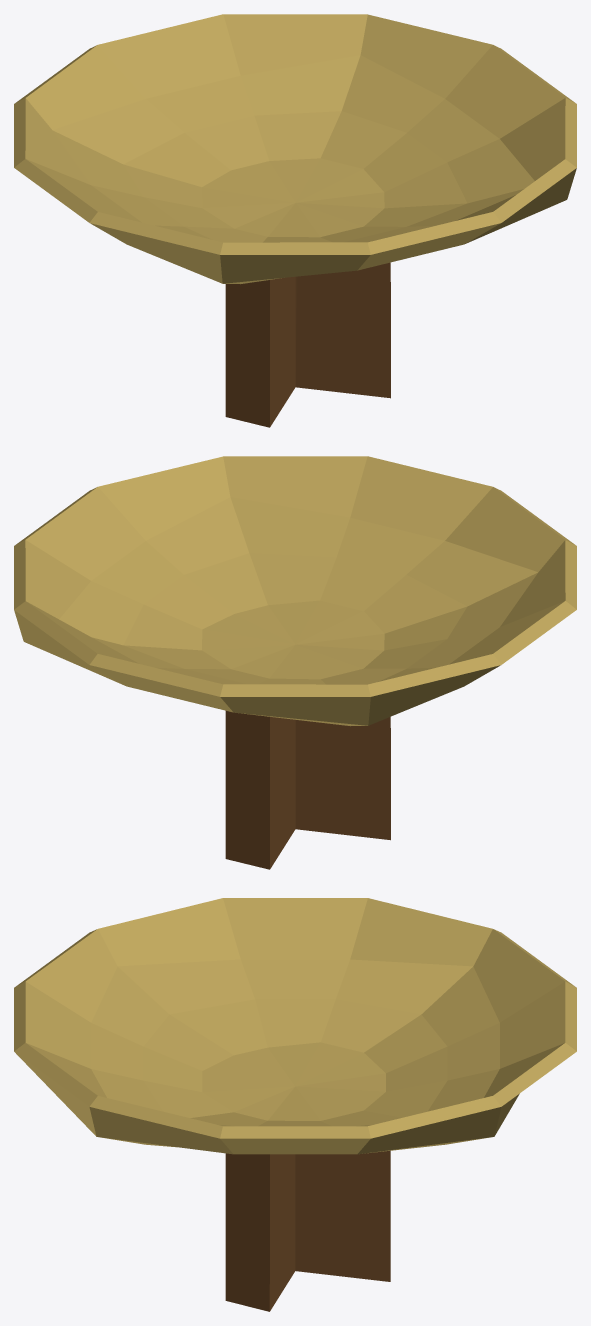
File: WaterTank_T2.fbx
3 views of the same model, one above another, from view 1: azimuth 30°, elevation 25°; view 2: azimuth 150°, elevation 25°; view 3: azimuth 270°, elevation 25° (orthographic).
Parts seen in each view (by area): view 1: Water_Tank_T2; view 2: Water_Tank_T2; view 3: Water_Tank_T2.
Boxes of the visible parts, bbox=[...] form: Water_Tank_T2: bbox=[14, 14, 576, 427]; Water_Tank_T2: bbox=[14, 456, 576, 869]; Water_Tank_T2: bbox=[14, 898, 576, 1311].
Bounding box in the file's own units: 137 × 69.68 × 137.
